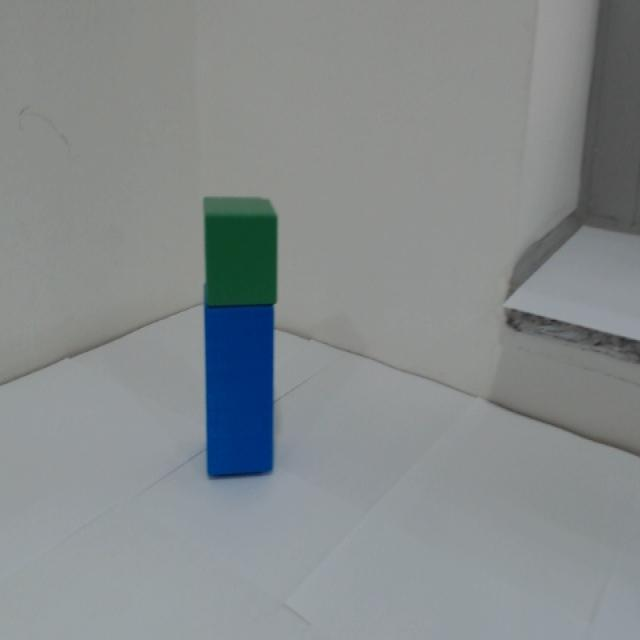cube: (199, 191, 282, 301)
